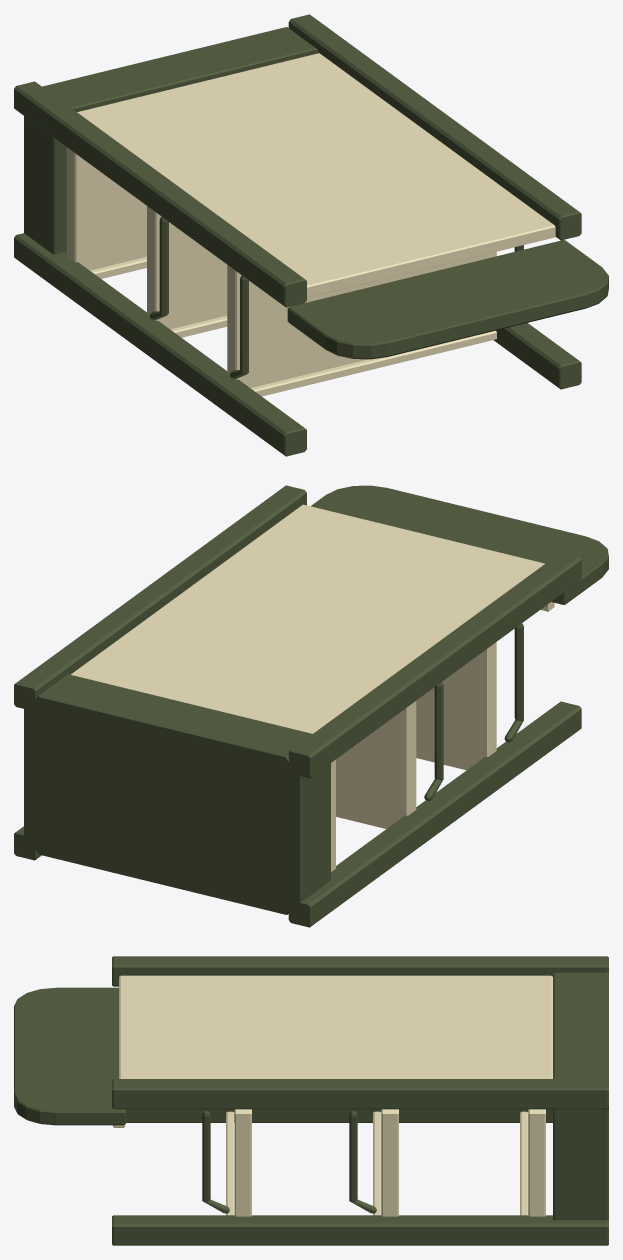
File: fixture_03_aisle_endcap.glb
The picture shows the model from 3 angles, top to bottom: view 1: azimuth 30°, elevation 25°; view 2: azimuth 150°, elevation 25°; view 3: azimuth 270°, elevation 25°; orthographic projection. The views are drawn at different scales.
Parts seen in each view (by area): view 1: fixture_03_aisle_endcap; view 2: fixture_03_aisle_endcap; view 3: fixture_03_aisle_endcap.
Part boxes in pixels (x1,y1,x2,y2): fixture_03_aisle_endcap: (14, 14, 608, 456); fixture_03_aisle_endcap: (14, 485, 608, 927); fixture_03_aisle_endcap: (14, 956, 608, 1245).
Size of what is drawn, in the model's own units: 0.9 by 0.5 by 1.7.
